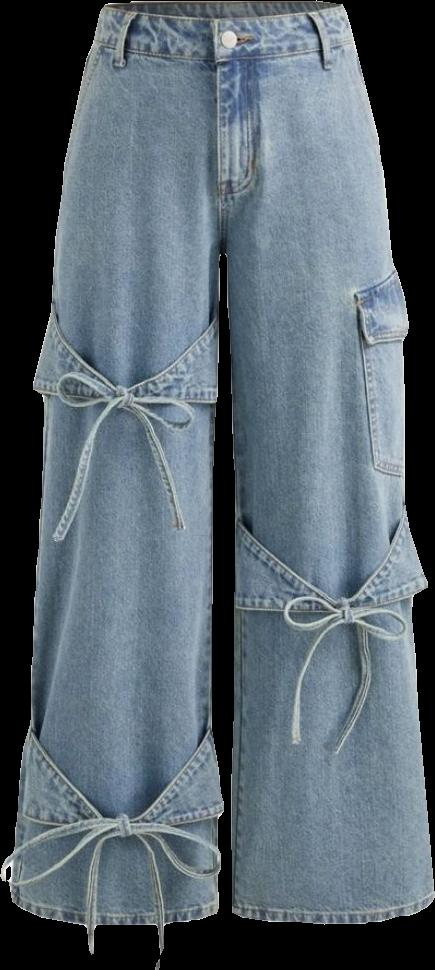Hemline: (6, 895, 219, 930), (233, 892, 434, 926)
Pantleg: (1, 0, 225, 929), (214, 0, 434, 923)
Waistline: (92, 36, 355, 69), (103, 0, 334, 23)
